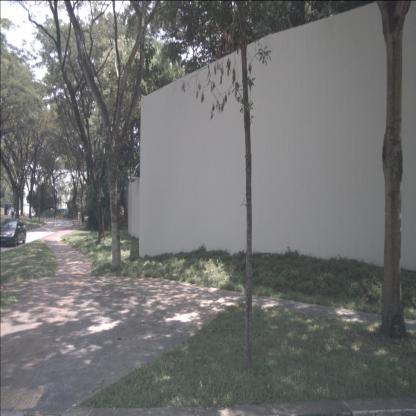human-pedestrian-adult: (77, 208, 82, 226), (10, 205, 15, 220), (81, 209, 85, 226)
vehicle-car: (0, 218, 27, 247)
